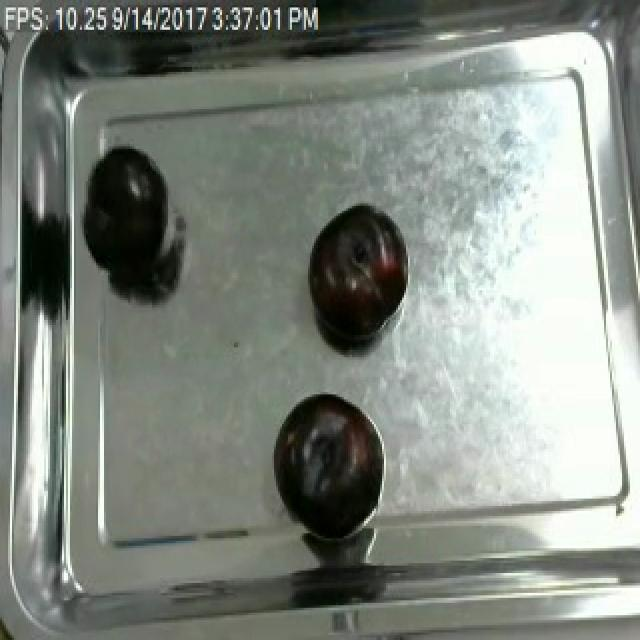Fruit: (270, 387, 384, 541), (302, 198, 408, 350), (80, 139, 180, 298)
